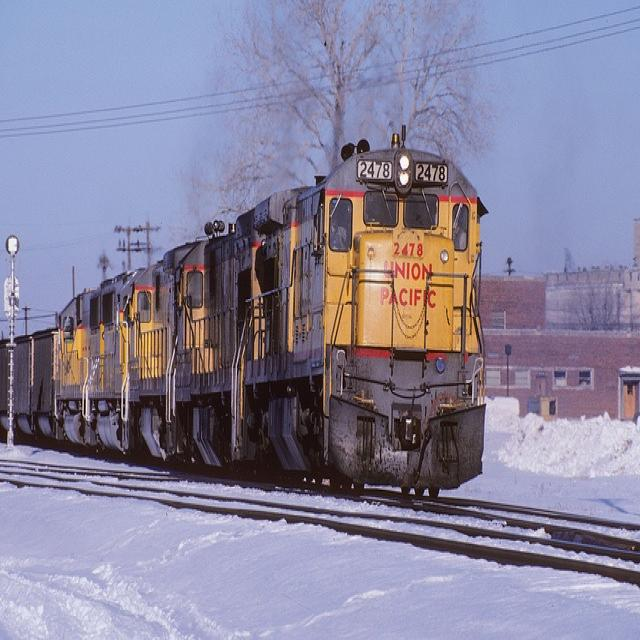pole: (4, 254, 15, 448)
